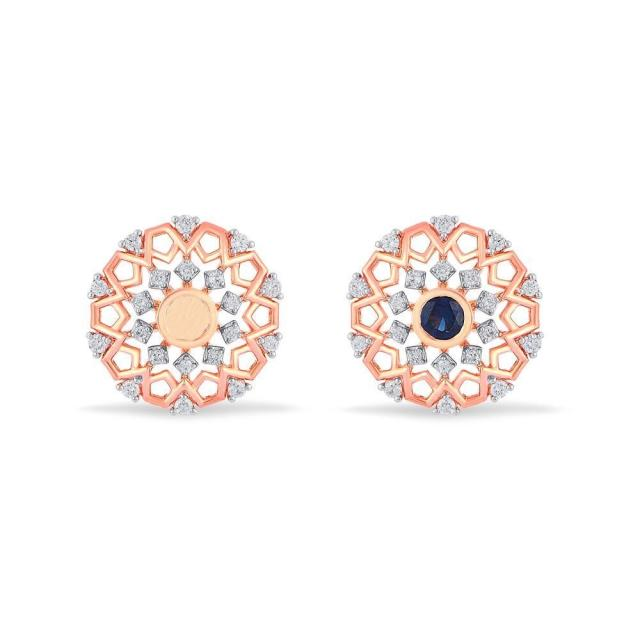missing gem: (165, 294, 211, 341)
